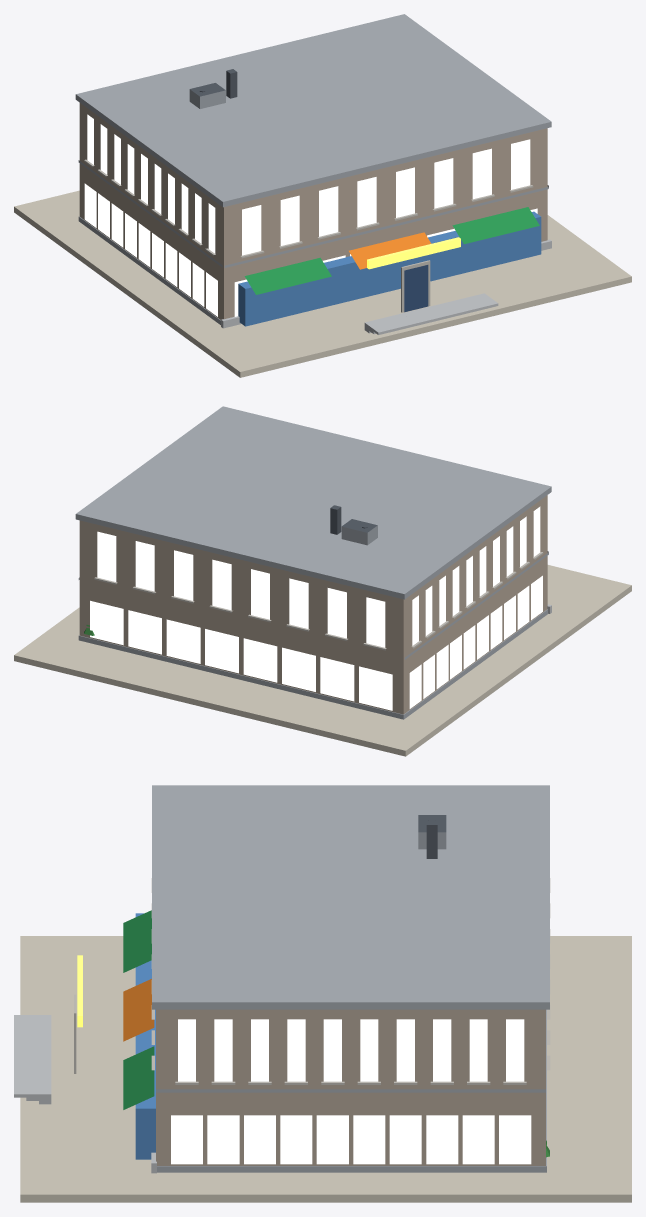
3 renders of one model, top to bottom at view 1: azimuth 30°, elevation 25°; view 2: azimuth 150°, elevation 25°; view 3: azimuth 270°, elevation 25°, orthographic. The views are drawn at different scales.
Visible parts, largest first — view 1: b13_x2; view 2: b13_x2; view 3: b13_x2.
Boxes of the visible parts, left/top/right/bottom form: b13_x2: left=14, top=14, right=631, bottom=377; b13_x2: left=14, top=406, right=631, bottom=756; b13_x2: left=14, top=785, right=631, bottom=1202.
Bounding box in the file's own units: 1.96 × 0.765 × 1.98.
